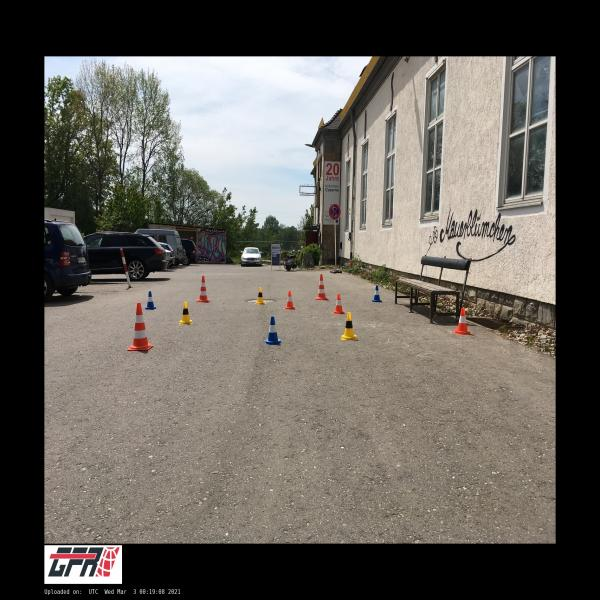blue_cone: (265, 316, 281, 345), (145, 291, 156, 310), (371, 285, 382, 303)
large_orange_cone: (128, 302, 153, 351), (196, 275, 211, 302), (315, 274, 328, 300)
orange_cone: (453, 308, 473, 335), (332, 294, 346, 314), (284, 291, 296, 310)
yellow_cone: (342, 312, 358, 340), (179, 302, 193, 324), (255, 287, 266, 305)
